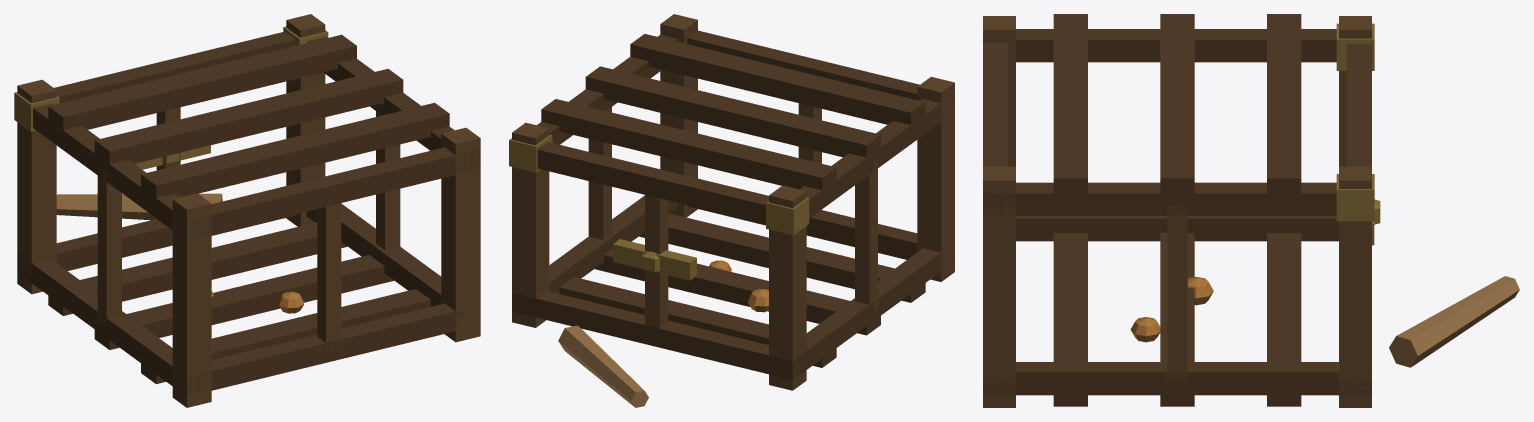
Rendered from Hunter_Box_Trap_Sprung.glb.
The picture shows the model from 3 angles, left to right: view 1: azimuth 30°, elevation 25°; view 2: azimuth 150°, elevation 25°; view 3: azimuth 270°, elevation 25°; orthographic projection. The views are drawn at different scales.
Visible parts, largest first — view 1: Hunter_Box_Trap_Sprung; view 2: Hunter_Box_Trap_Sprung; view 3: Hunter_Box_Trap_Sprung.
Part boxes in pixels (<box>): Hunter_Box_Trap_Sprung: <box>14,14,480,407</box>; Hunter_Box_Trap_Sprung: <box>509,14,954,407</box>; Hunter_Box_Trap_Sprung: <box>983,14,1519,407</box>.
Bounding box in the file's own units: 1.26 × 0.808 × 1.71.
